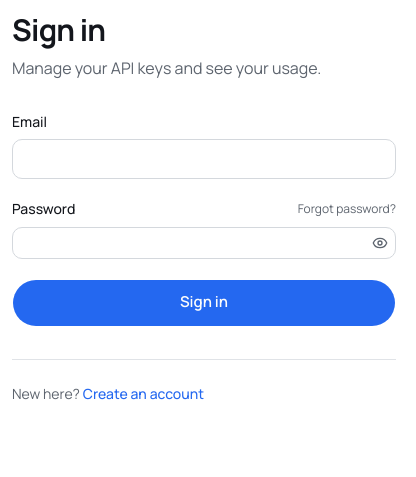
Test case: LoginForm › shows one generic message for a wrong email or password
The image size is (416, 477).
In the field labelled "Email": (204, 159) x1=12 y1=139 x2=396 y2=179, type "dev@example.com"
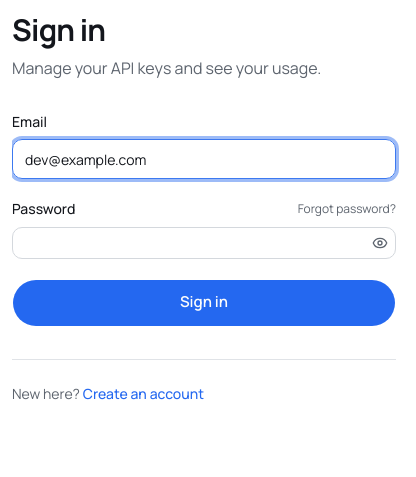
In the password field labelled "Password": (190, 242) x1=13 y1=222 x2=368 y2=262, type "wrong-password"
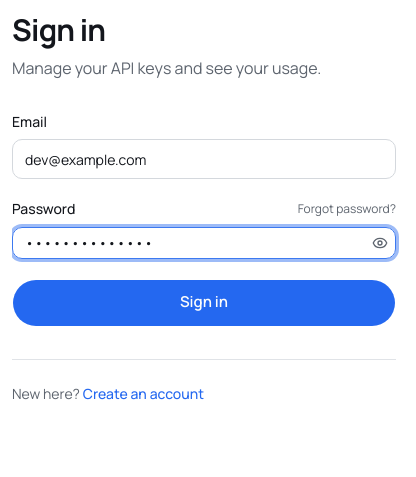
Click the button "Sign in": (204, 302) x1=12 y1=278 x2=396 y2=326
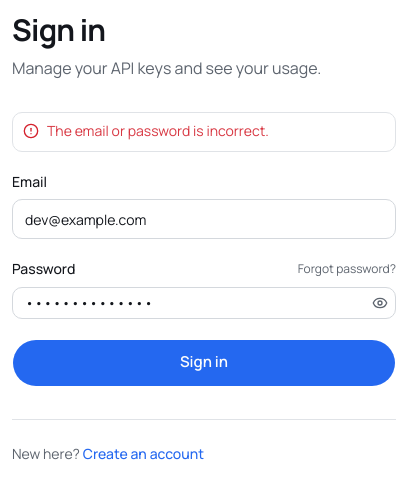
Check: the text "The email or password is incorrect." is shown, box x1=47 y1=121 x2=269 y2=140
